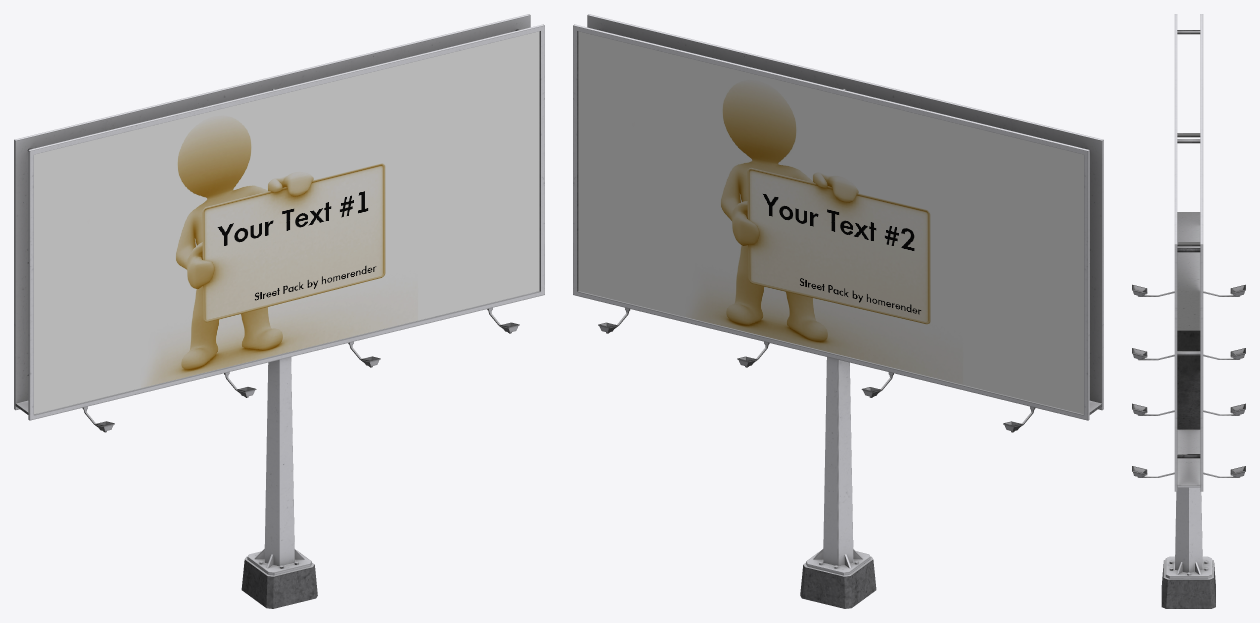
The model's file is billboard.FBX.
3 views of the same model, side by side, from view 1: azimuth 30°, elevation 25°; view 2: azimuth 150°, elevation 25°; view 3: azimuth 270°, elevation 25° (orthographic). The views are drawn at different scales.
Visible parts, largest first — view 1: Object001, Box001; view 2: Object002, Box001; view 3: Box001.
Part boxes in pixels (x1,y1,x2,y2): Object001: (34, 31, 539, 414); Box001: (14, 14, 544, 608); Object002: (578, 31, 1083, 414); Box001: (573, 14, 1103, 608); Box001: (1132, 14, 1245, 608).
Bounding box in the file's own units: 236 × 224 × 49.31.
